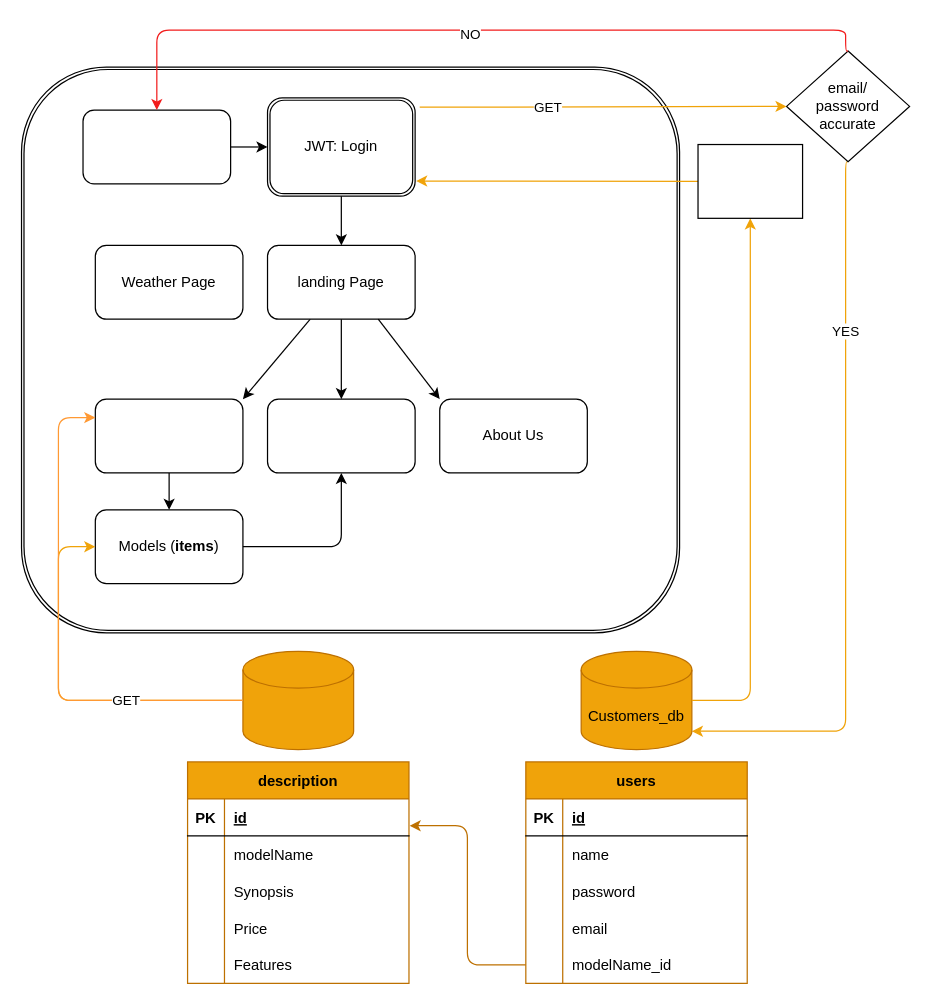
Some shapes in this 931 by 1005 pixel diagram are drawn without their labels. The shapes that lost their labels are listed below. From the top down, each one's centre as x and y in pixels, then its label:
(x=156, y=146): Invalid login
(x=750, y=180): token
(x=168, y=435): Models ( List )
(x=340, y=435): Contact Us
(x=298, y=700): Models_db
